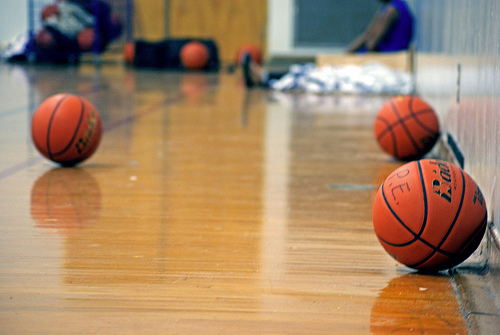basketball: (372, 158, 487, 275), (30, 92, 103, 168), (374, 95, 439, 161)
